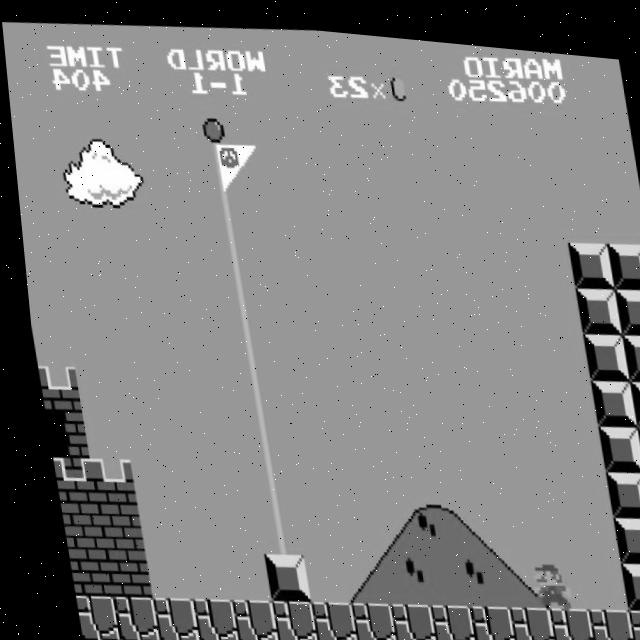11- little_mario: (515, 548, 565, 604)
17- undestructible_block: (179, 592, 227, 640), (139, 592, 187, 640), (100, 592, 148, 640), (298, 593, 346, 640), (219, 593, 267, 640), (378, 593, 425, 640), (338, 593, 385, 640), (259, 593, 306, 640), (576, 594, 624, 640), (536, 594, 584, 640), (497, 594, 545, 640), (457, 594, 505, 640), (417, 594, 465, 640), (63, 592, 107, 640), (616, 595, 640, 640), (225, 637, 269, 640), (186, 637, 229, 640), (146, 637, 189, 640), (106, 637, 149, 640), (304, 638, 348, 640), (424, 639, 469, 640), (384, 639, 429, 640), (344, 639, 388, 640), (265, 639, 309, 640), (503, 640, 548, 640), (464, 640, 509, 640)
7- goal_pole: (218, 317, 266, 370), (232, 409, 280, 462), (192, 134, 240, 186), (212, 272, 260, 324), (245, 501, 293, 553), (225, 364, 273, 415), (186, 88, 233, 140), (206, 226, 253, 278), (199, 181, 246, 232), (239, 456, 286, 507)
9- hard_block: (569, 274, 617, 326), (576, 320, 624, 372), (589, 412, 637, 464), (252, 547, 299, 599), (563, 229, 610, 280), (583, 366, 630, 417), (596, 457, 640, 509), (602, 503, 640, 555), (602, 229, 640, 280), (609, 274, 640, 327), (609, 549, 640, 601), (616, 320, 640, 372), (622, 365, 640, 416), (629, 412, 640, 463), (635, 458, 640, 508)
